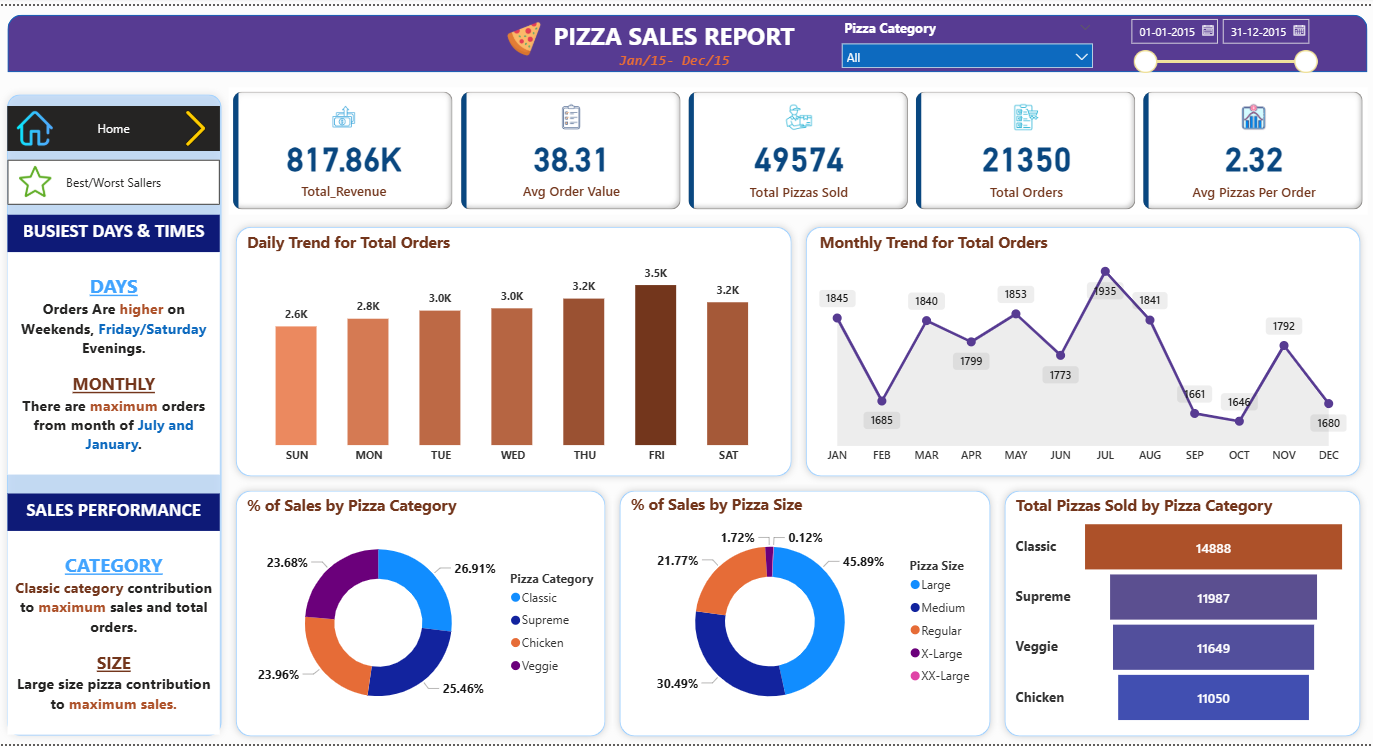

The dashboard page shown, as its layout file describes it:
{"tool":"powerbi","page":{"name":"Home","canvas":[1530,820],"ordinal":0},"visuals":[{"type":"cardVisual","fields":{"Data":["pizza_sales.Total_Revenue","pizza_sales.Avg Order Value","pizza_sales.Total Pizzas Sold","pizza_sales.Total Orders","pizza_sales.Avg Pizzas Per Order"]},"box":[254.4,90.3,1266.2,141.8],"z":0},{"type":"shape","box":[8.3,9.7,1512.2,63.9],"z":1000},{"type":"textbox","box":[596.3,9.6,306.4,45.3],"z":2000},{"type":"textbox","box":[681.5,45.3,137.4,28.9],"z":3000},{"type":"image","box":[549.6,12.4,67.3,48.1],"z":4000},{"type":"shape","box":[254.4,237.7,633.8,293.3],"z":5000},{"type":"shape","box":[0,90.7,254.2,729],"z":6000},{"type":"textbox","box":[8.2,232.2,236.3,41.2],"z":7000},{"type":"textbox","box":[8.2,273.4,236.3,247.3],"z":8000},{"type":"textbox","box":[8.2,542.7,236.3,41.2],"z":9000},{"type":"textbox","box":[8.3,583.8,236.3,226],"z":10000},{"type":"slicer","fields":{"Values":["pizza_sales.pizza_category"]},"box":[926.1,9.6,299.5,64.6],"z":11000},{"type":"slicer","fields":{"Values":["pizza_sales.order_date"]},"box":[1245.4,4.2,227.9,86.2],"z":12000},{"type":"shape","box":[888.1,237.7,632.4,293.3],"z":13000},{"type":"shape","box":[254.4,530.9,426.7,289.1],"z":14000},{"type":"shape","box":[681.1,530.9,428.1,289.1],"z":15000},{"type":"shape","box":[1109.1,530.9,411.4,289.1],"z":16000},{"type":"columnChart","title":"Daily Trend for Total Orders","fields":{"Category":["pizza_sales.Order Day"],"Y":["pizza_sales.Total Orders"]},"box":[269.6,250.2,601.8,268.3],"z":17000},{"type":"areaChart","title":"Monthly Trend for Total Orders","fields":{"Category":["pizza_sales.Order Month"],"Y":["pizza_sales.Total Orders"]},"box":[906.2,250.2,596.3,268.3],"z":18000},{"type":"donutChart","title":"% of Sales by Pizza Category","fields":{"Category":["pizza_sales.pizza_category"],"Y":["pizza_sales.Total_Revenue"]},"box":[269.6,543.5,411.4,262.7],"z":19000},{"type":"donutChart","title":"% of Sales by Pizza Size","fields":{"Y":["pizza_sales.Total_Revenue"],"Category":["pizza_sales.pizza_size"]},"box":[696.3,542.1,398.9,262.7],"z":20000},{"type":"funnel","title":"Total Pizzas Sold by Pizza Category","fields":{"Y":["pizza_sales.Total Pizzas Sold"],"Category":["pizza_sales.pizza_category"]},"box":[1124.4,543.5,378.1,261.3],"z":21000},{"type":"pageNavigator","box":[8.3,111.2,236.3,50],"z":21001},{"type":"pageNavigator","box":[8.3,171,236.3,50],"z":21002},{"type":"image","box":[190.4,111.2,54.2,50],"z":21003},{"type":"image","box":[8.3,111.2,61.2,50],"z":21004},{"type":"image","box":[8.3,172.3,61.2,45.9],"z":21005}]}

Visuals, with their boxes in screenshot pixels (x1, y1, x2, y2), scaled from the page's 1530x820 canvas onto the 1373x746 screenshot:
cardVisual - pizza_sales.Total_Revenue x pizza_sales.Avg Order Value: select_region(228, 82, 1365, 211)
shape: select_region(7, 9, 1364, 67)
textbox: select_region(535, 9, 810, 50)
textbox: select_region(612, 41, 735, 68)
image: select_region(493, 11, 554, 55)
shape: select_region(228, 216, 797, 483)
shape: select_region(0, 83, 228, 745)
textbox: select_region(7, 211, 219, 249)
textbox: select_region(7, 249, 219, 474)
textbox: select_region(7, 494, 219, 531)
textbox: select_region(7, 531, 220, 737)
slicer - pizza_sales.pizza_category: select_region(831, 9, 1100, 68)
slicer - pizza_sales.order_date: select_region(1118, 4, 1322, 82)
shape: select_region(797, 216, 1364, 483)
shape: select_region(228, 483, 611, 745)
shape: select_region(611, 483, 995, 745)
shape: select_region(995, 483, 1364, 745)
"Daily Trend for Total Orders" columnChart: select_region(242, 228, 782, 472)
"Monthly Trend for Total Orders" areaChart: select_region(813, 228, 1348, 472)
"% of Sales by Pizza Category" donutChart: select_region(242, 494, 611, 733)
"% of Sales by Pizza Size" donutChart: select_region(625, 493, 983, 732)
"Total Pizzas Sold by Pizza Category" funnel: select_region(1009, 494, 1348, 732)
pageNavigator: select_region(7, 101, 220, 147)
pageNavigator: select_region(7, 156, 220, 201)
image: select_region(171, 101, 220, 147)
image: select_region(7, 101, 62, 147)
image: select_region(7, 157, 62, 199)
